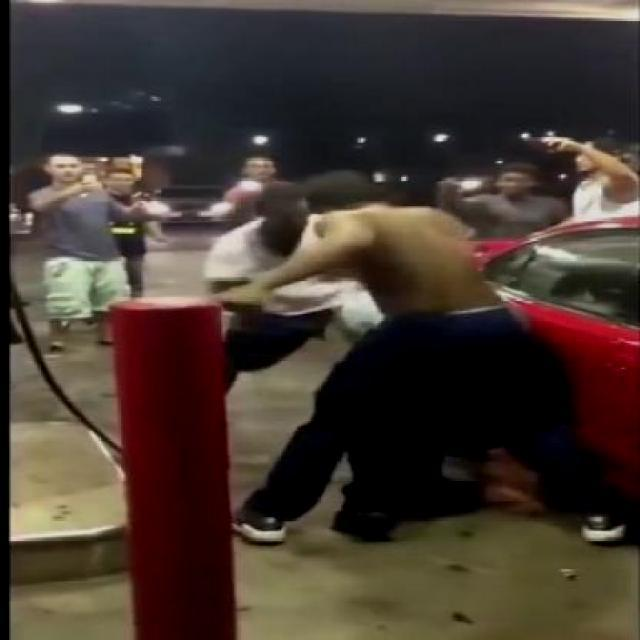fight: (208, 170, 640, 546)
